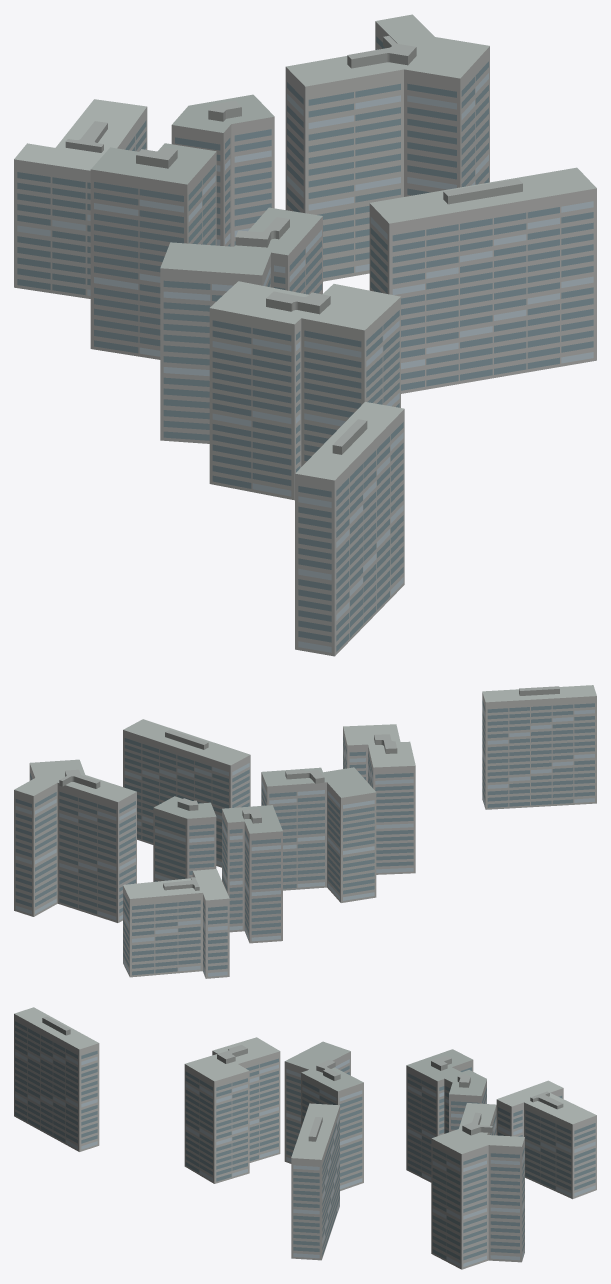
The model's file is apt-a10024894.glb.
3 renders of one model, top to bottom at view 1: azimuth 30°, elevation 25°; view 2: azimuth 150°, elevation 25°; view 3: azimuth 270°, elevation 25°, orthographic. The views are drawn at different scales.
Visible parts, largest first — view 1: apt-a10024894; view 2: apt-a10024894; view 3: apt-a10024894.
Part boxes in pixels (bbox=[...]): apt-a10024894: bbox=[14, 14, 596, 656]; apt-a10024894: bbox=[14, 685, 596, 978]; apt-a10024894: bbox=[14, 1007, 596, 1269].
Size of the model in its own units: 153 by 54 by 236.
